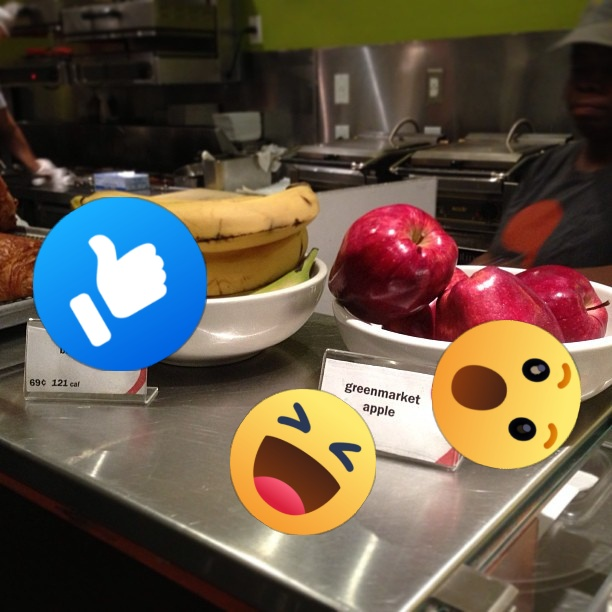haha: (230, 389, 376, 535)
like: (33, 197, 207, 371)
wow: (432, 320, 581, 469)
